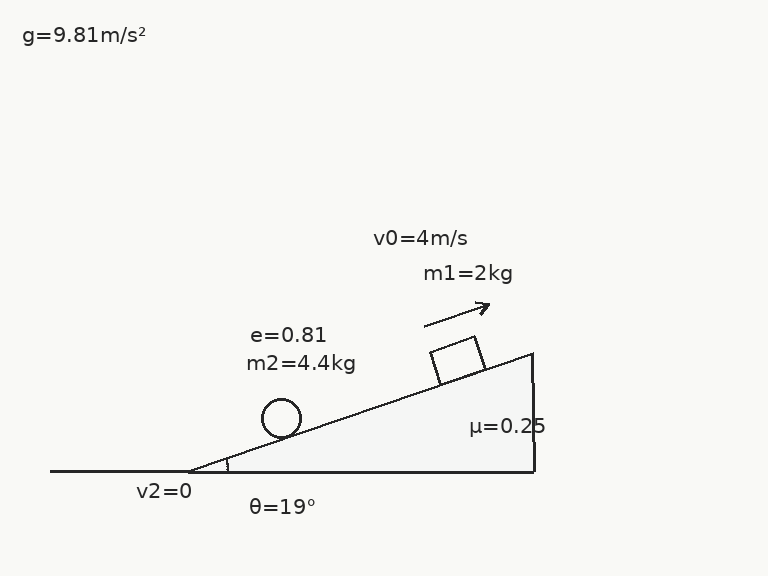ball: (258, 396, 302, 440)
block: (428, 335, 487, 386)
ramp: (186, 350, 535, 473)
